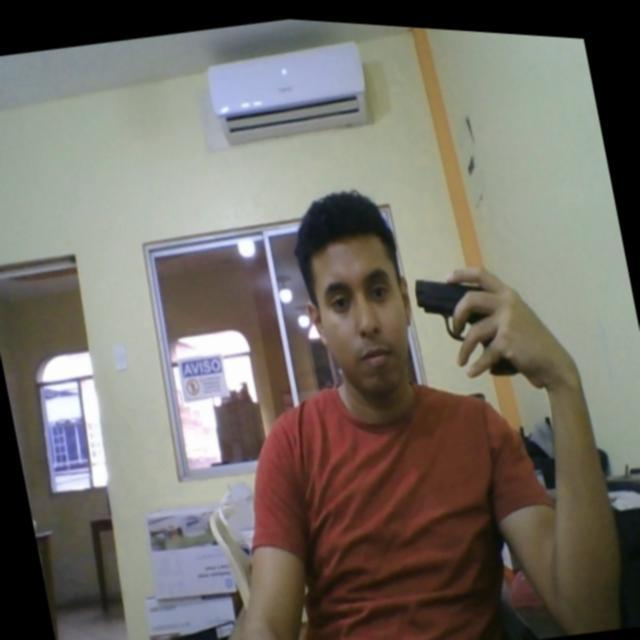weapon: (411, 254, 522, 385)
